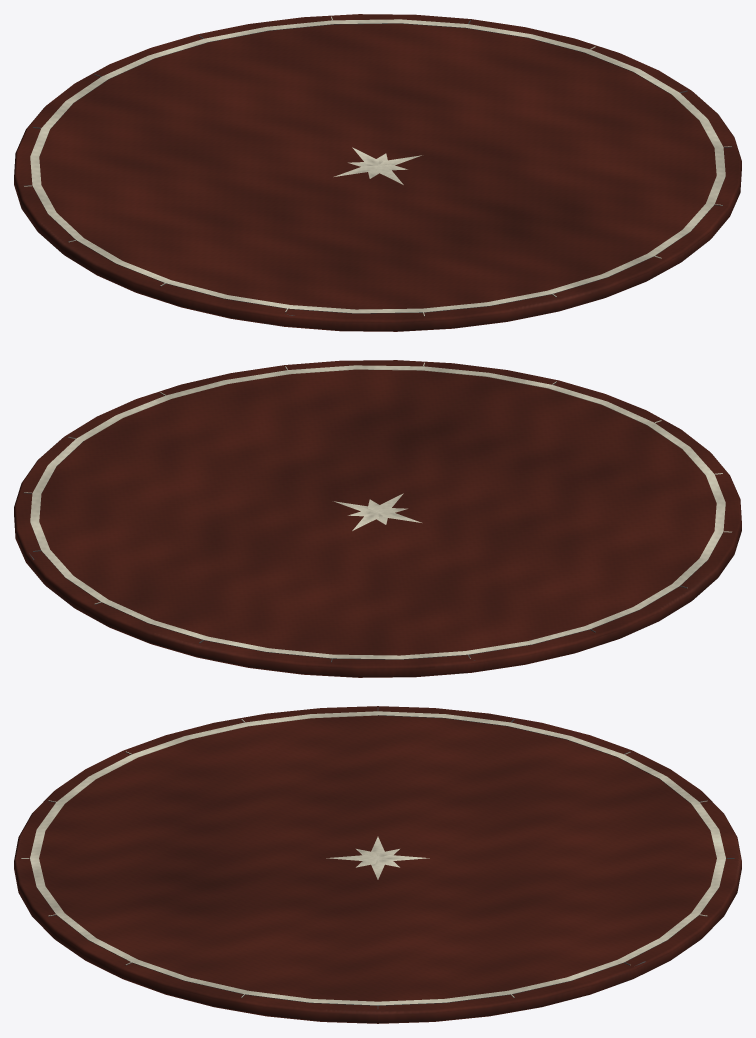
Rendered from Furn_TrainingMat_Round.fbx.
3 renders of one model, top to bottom at view 1: azimuth 30°, elevation 25°; view 2: azimuth 150°, elevation 25°; view 3: azimuth 270°, elevation 25°, orthographic.
Visible parts, largest first — view 1: Furn_TrainingMat_Round; view 2: Furn_TrainingMat_Round; view 3: Furn_TrainingMat_Round.
Boxes of the visible parts, x1,y1,x2,y2 form: Furn_TrainingMat_Round: [14, 14, 741, 331]; Furn_TrainingMat_Round: [14, 360, 741, 677]; Furn_TrainingMat_Round: [14, 706, 741, 1023].
Size of the model in its own units: 3.2 by 0.063 by 3.2.
2 materials, 2 textured.
